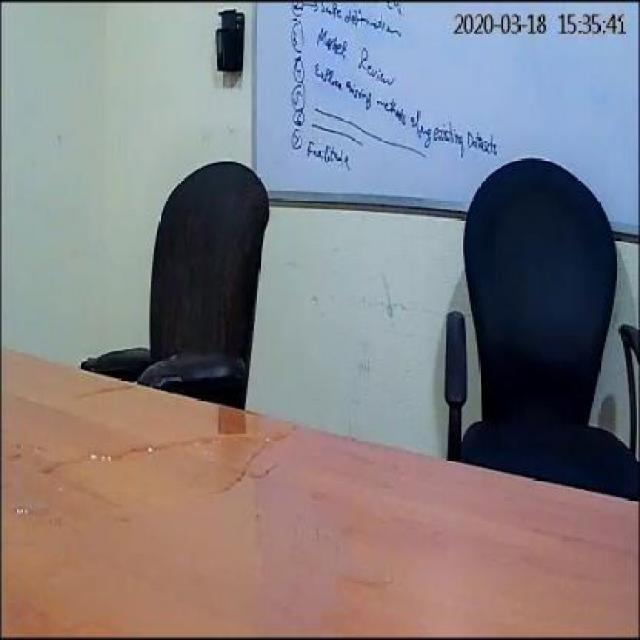spill: (14, 394, 300, 472), (7, 455, 267, 531)
